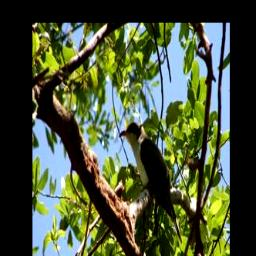Cuckoo: (117, 122, 181, 244)
